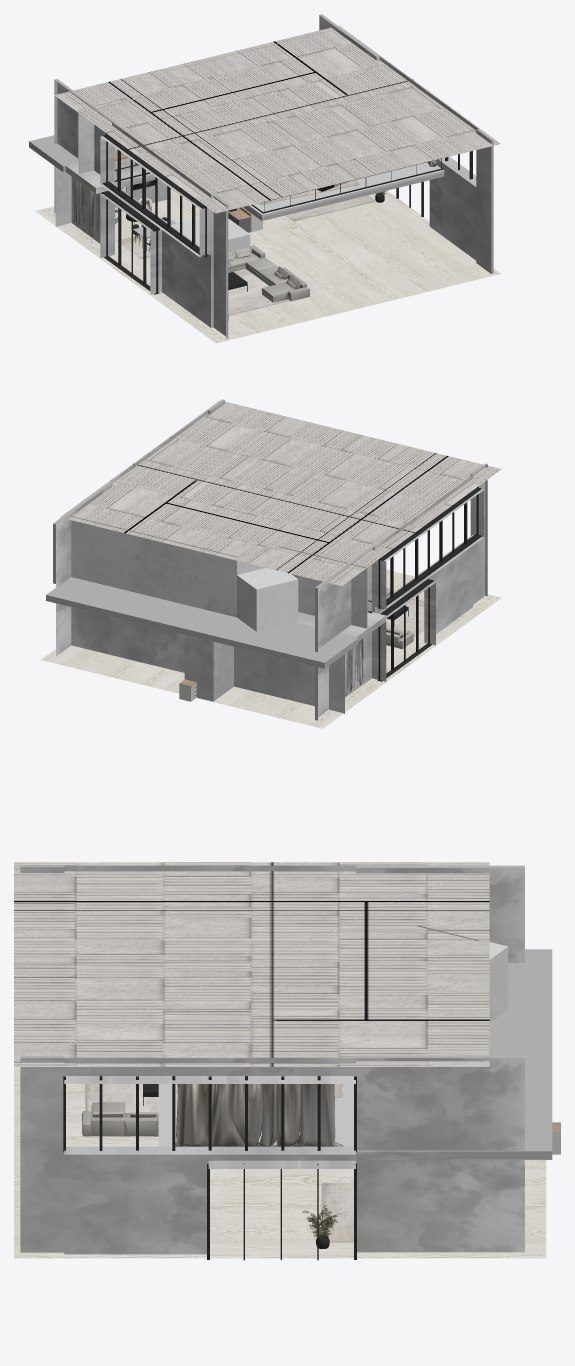
3 views of the same model, one above another, from view 1: azimuth 30°, elevation 25°; view 2: azimuth 150°, elevation 25°; view 3: azimuth 270°, elevation 25° (orthographic). The views are drawn at different scales.
Parts seen in each view (by area): view 1: Plane.012, Plane, Plane.003, node_0.010_Material.002_0, Cube_Material.002_0, node_0_Material.005_0, Plane.001, Plane.014, Plane.002, Plane.005, Cube, Plane.004 (+6 smaller); view 2: Plane.012, Plane.002, Plane.003, Plane.001, Cube_Material.002_0, Plane, node_0.010_Material.002_0, Plane.005, Plane.014, Plane.004, Plane.006, node_0.002_Material.013_0 (+1 smaller); view 3: Plane.012, node_0.010_Material.002_0, Plane, Cube_Material.002_0, node_0.014_Material.013_0, Plane.003, node_0.010_Material.004_0, node_0_Material.005_0, Plane.011, Plane.002, Plane.014.
Part boxes in pixels (x1,y1,x2,y2): Plane.012: [54, 25, 500, 213]; Plane: [35, 188, 500, 343]; Plane.003: [54, 79, 228, 338]; node_0.010_Material.002_0: [319, 14, 493, 273]; Cube_Material.002_0: [29, 135, 444, 220]; node_0_Material.005_0: [228, 245, 309, 302]; Plane.001: [55, 167, 167, 227]; Plane.014: [228, 269, 290, 315]; Plane.002: [78, 29, 334, 174]; Plane.005: [106, 133, 206, 257]; Cube: [171, 218, 250, 256]; Plane.004: [106, 199, 158, 293]; Plane.012: [60, 400, 501, 586]; Plane.002: [71, 516, 367, 631]; Plane.003: [315, 463, 487, 720]; Plane.001: [71, 607, 344, 713]; Cube_Material.002_0: [46, 577, 386, 668]; Plane: [41, 569, 501, 728]; node_0.010_Material.002_0: [53, 399, 224, 656]; Plane.005: [378, 486, 478, 608]; Plane.014: [386, 598, 424, 638]; Plane.004: [378, 587, 429, 680]; Plane.006: [377, 534, 481, 608]; node_0.002_Material.013_0: [345, 638, 363, 695]; Plane.012: [14, 862, 489, 1066]; node_0.010_Material.002_0: [20, 1055, 524, 1254]; Plane: [14, 1067, 546, 1258]; Cube_Material.002_0: [158, 949, 552, 1159]; node_0.014_Material.013_0: [175, 1084, 342, 1146]; Plane.003: [20, 865, 524, 962]; node_0.010_Material.004_0: [63, 1076, 356, 1260]; node_0_Material.005_0: [82, 1102, 158, 1136]; Plane.011: [321, 1182, 353, 1242]; Plane.002: [416, 925, 508, 1022]; Plane.014: [85, 1084, 158, 1112].
Size of the model in its own units: 20.11 by 8.97 by 12.58.
Materials: 23 (20 with a texture image).
